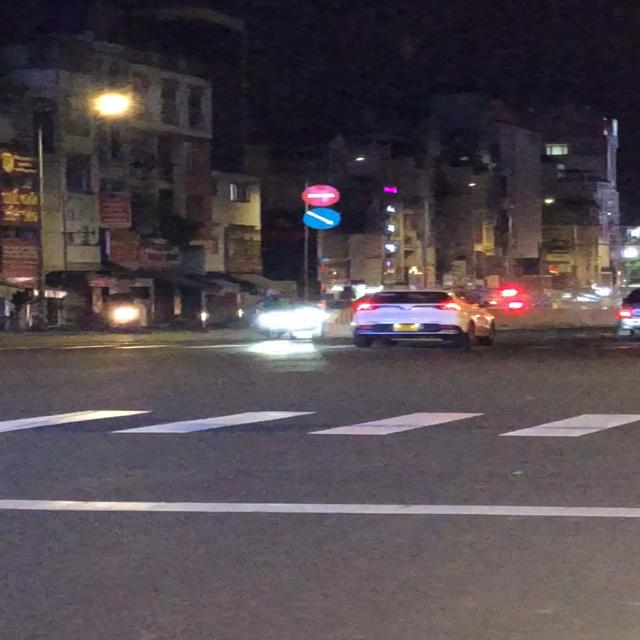Bien bao cam di nguoc chieu: (300, 182, 340, 206)
Bien bao huong phai di vong chuong ngai vat: (302, 207, 341, 230)
